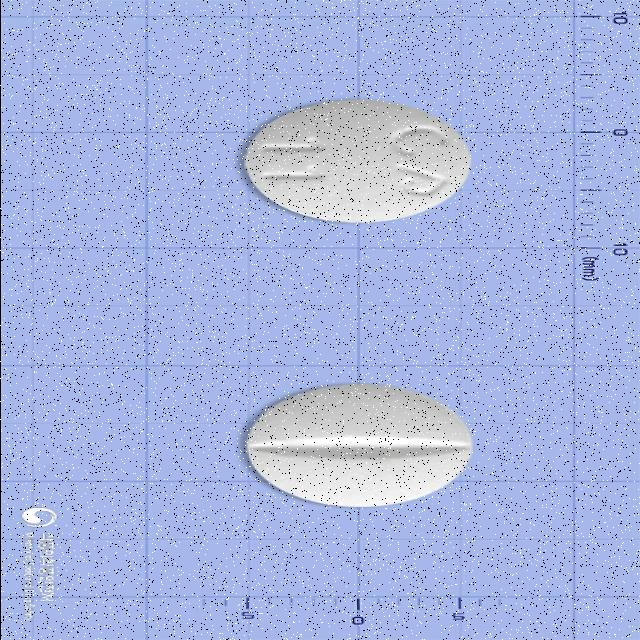Prodin Tab: (242, 98, 476, 226)
